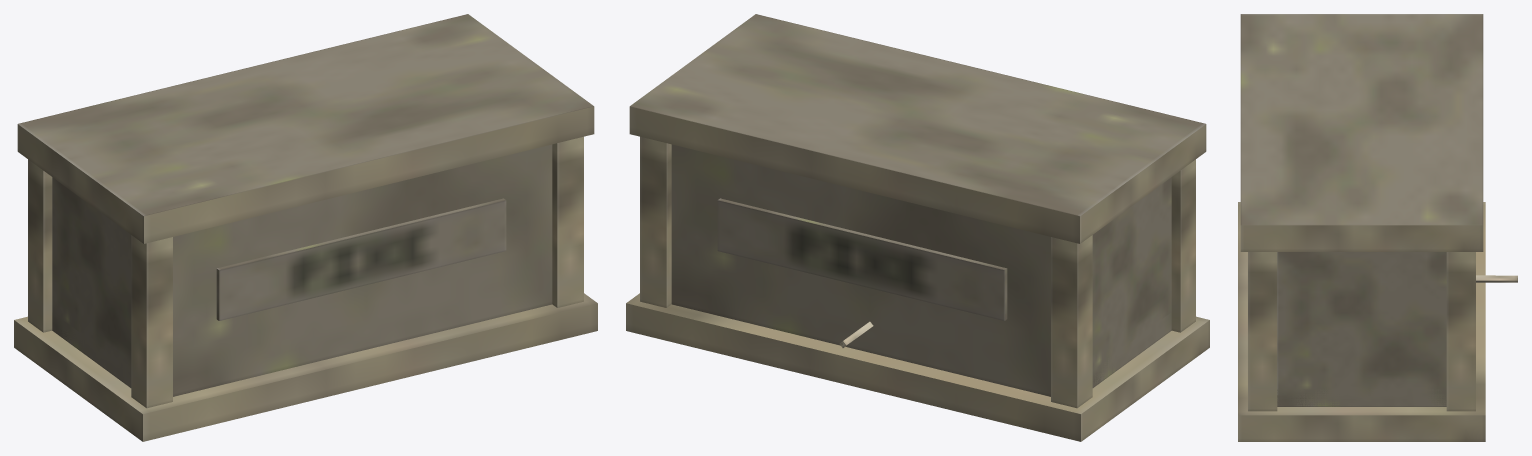
File: tomb_chest.obj
3 renders of one model, left to right at view 1: azimuth 30°, elevation 25°; view 2: azimuth 150°, elevation 25°; view 3: azimuth 270°, elevation 25°, orthographic. The views are drawn at different scales.
Visible parts, largest first — view 1: tomb_chest, tomb_chest_lid; view 2: tomb_chest, tomb_chest_lid; view 3: tomb_chest_lid, tomb_chest.
Part boxes in pixels (bbox=[...]): tomb_chest: bbox=[14, 136, 597, 441]; tomb_chest_lid: bbox=[17, 14, 594, 243]; tomb_chest: bbox=[626, 136, 1209, 441]; tomb_chest_lid: bbox=[629, 14, 1206, 243]; tomb_chest_lid: bbox=[1240, 14, 1483, 251]; tomb_chest: bbox=[1238, 202, 1517, 441].
Bounding box in the file's own units: 2.06 × 0.97 × 1.14.
1 material, 1 textured.
